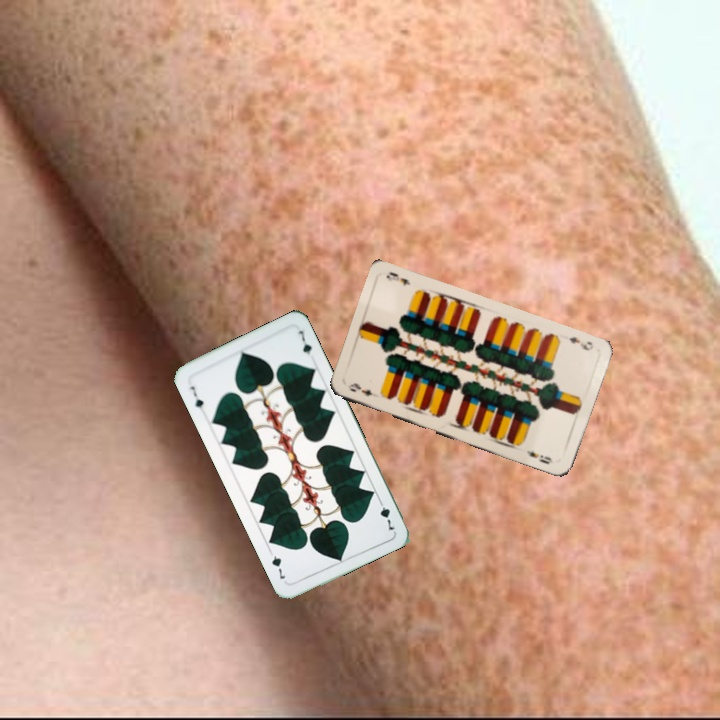E9: (565, 333, 596, 353), (343, 380, 375, 399)
G7: (374, 495, 397, 534), (186, 382, 206, 411)
